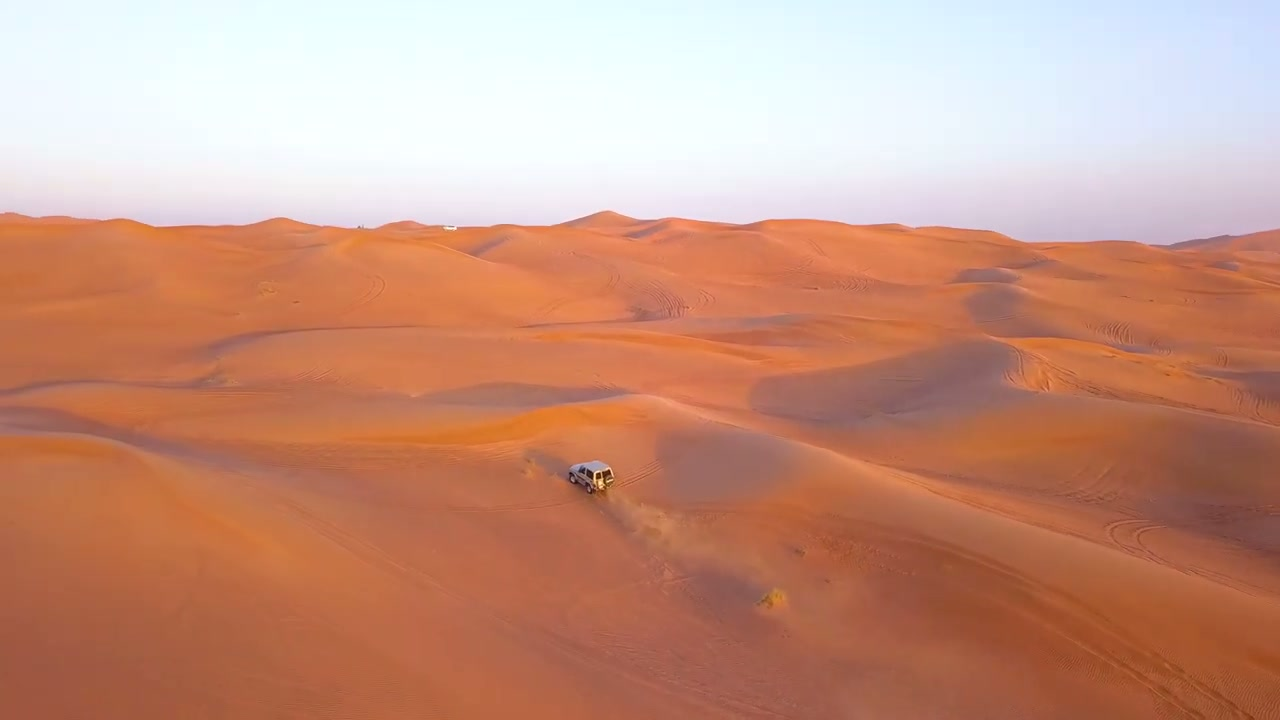vehicle_track: (277, 494, 785, 717), (877, 528, 1255, 719), (1104, 518, 1273, 597), (526, 250, 620, 323), (1052, 460, 1120, 504), (623, 278, 688, 319), (335, 273, 386, 316), (1231, 383, 1279, 424), (613, 460, 661, 488), (1087, 321, 1136, 346), (801, 235, 828, 257), (1214, 347, 1231, 368)
